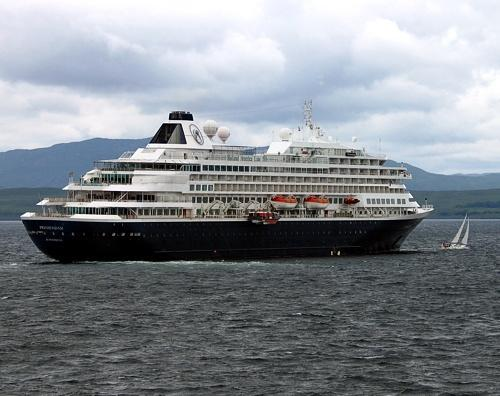Ship: (19, 99, 436, 264), (441, 212, 475, 252)
